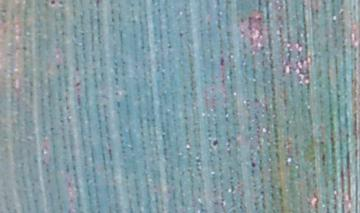tarspot: (320, 151, 327, 166), (210, 138, 219, 147), (218, 55, 225, 66), (20, 44, 28, 52), (74, 80, 82, 87), (250, 161, 256, 169), (49, 1, 57, 7), (55, 62, 61, 70), (74, 65, 80, 72), (318, 140, 324, 146), (58, 1, 65, 6), (178, 31, 183, 38)
